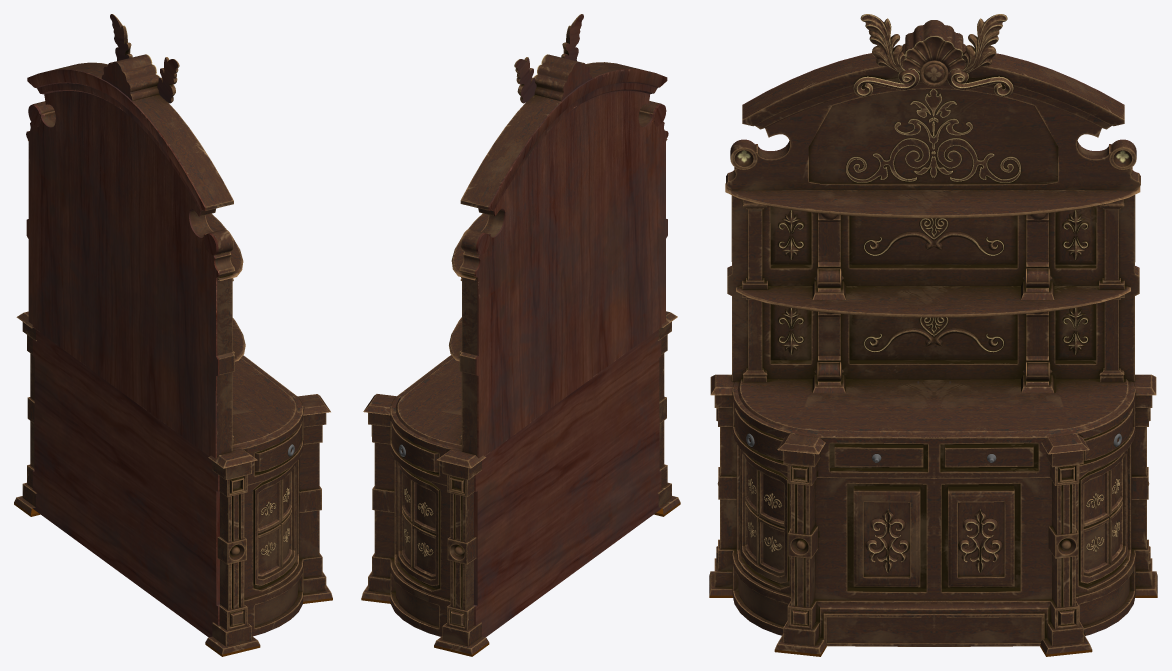
The model's file is wardrobe.glb.
3 renders of one model, left to right at view 1: azimuth 30°, elevation 25°; view 2: azimuth 150°, elevation 25°; view 3: azimuth 270°, elevation 25°, orthographic. The views are drawn at different scales.
Visible parts, largest first — view 1: backCube.002_low, backCircle_low, Circle_low, Cube_low, Cube.002_low, _3_low, backFL17_low, Circle.001_low, back_3_low, Cylinder_low, backCylinder_low; view 2: backCube.002_low, backCircle_low, Circle_low, Cube_low, Cube.002_low, _3_low, backFL17_low, Circle.001_low, back_3_low, Cylinder_low, backCylinder_low; view 3: Circle_low, Cube.002_low, Cube_low, Circle.001_low, Cube.001_low, Curve.044_low, Cube.004_low, Cube.005_low, _3_low, FL17_low, Curve_low, Curve.120_low (+6 smaller).
Part boxes in pixels (left/top/right/bottom): backCube.002_low: left=26, top=69, right=220, bottom=458; backCircle_low: left=32, top=330, right=219, bottom=637; Circle_low: left=232, top=355, right=303, bottom=636; Cube_low: left=14, top=311, right=332, bottom=654; Cube.002_low: left=28, top=62, right=234, bottom=456; _3_low: left=105, top=54, right=160, bottom=100; backFL17_low: left=110, top=14, right=177, bottom=103; Circle.001_low: left=28, top=140, right=245, bottom=361; back_3_low: left=101, top=61, right=132, bottom=100; Cylinder_low: left=32, top=101, right=233, bottom=255; backCylinder_low: left=28, top=104, right=218, bottom=255; backCube.002_low: left=473, top=69, right=668, bottom=458; backCircle_low: left=473, top=329, right=661, bottom=637; Circle_low: left=390, top=355, right=461, bottom=636; Cube_low: left=361, top=311, right=680, bottom=654; Cube.002_low: left=459, top=62, right=665, bottom=456; _3_low: left=533, top=54, right=587, bottom=101; backFL17_low: left=515, top=14, right=583, bottom=103; Circle.001_low: left=449, top=139, right=667, bottom=361; back_3_low: left=561, top=62, right=591, bottom=100; Cylinder_low: left=460, top=101, right=661, bottom=254; backCylinder_low: left=476, top=104, right=666, bottom=254; Circle_low: left=732, top=379, right=1135, bottom=646; Cube.002_low: left=726, top=53, right=1140, bottom=381; Cube_low: left=709, top=374, right=1157, bottom=654; Circle.001_low: left=725, top=183, right=1140, bottom=317; Cube.001_low: left=742, top=199, right=1124, bottom=382; Curve.044_low: left=846, top=89, right=1020, bottom=182; Cube.004_low: left=812, top=213, right=1054, bottom=299; Cube.005_low: left=812, top=311, right=1054, bottom=393; _3_low: left=902, top=20, right=966, bottom=86; FL17_low: left=860, top=14, right=1007, bottom=73; Curve_low: left=866, top=509, right=1002, bottom=572; Curve.120_low: left=778, top=210, right=1088, bottom=354.
Size of the model in its own units: 0.678 by 2.28 by 1.6.
Materials: 3 (2 with a texture image).
